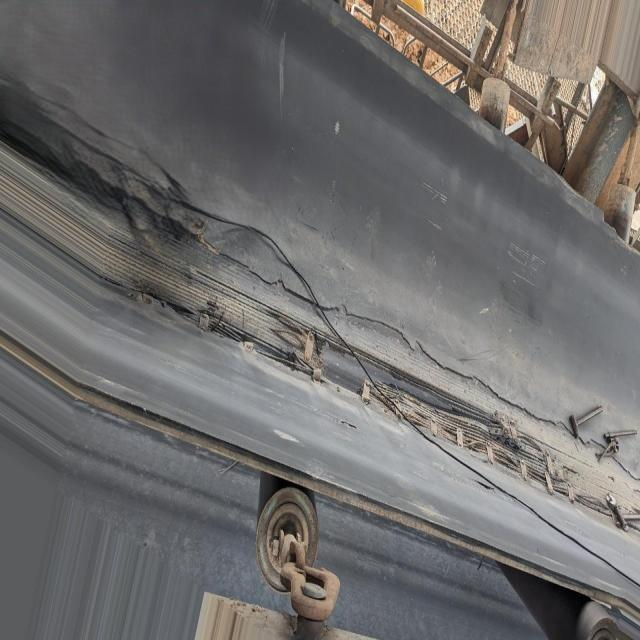Tear: (179, 246, 635, 532)
